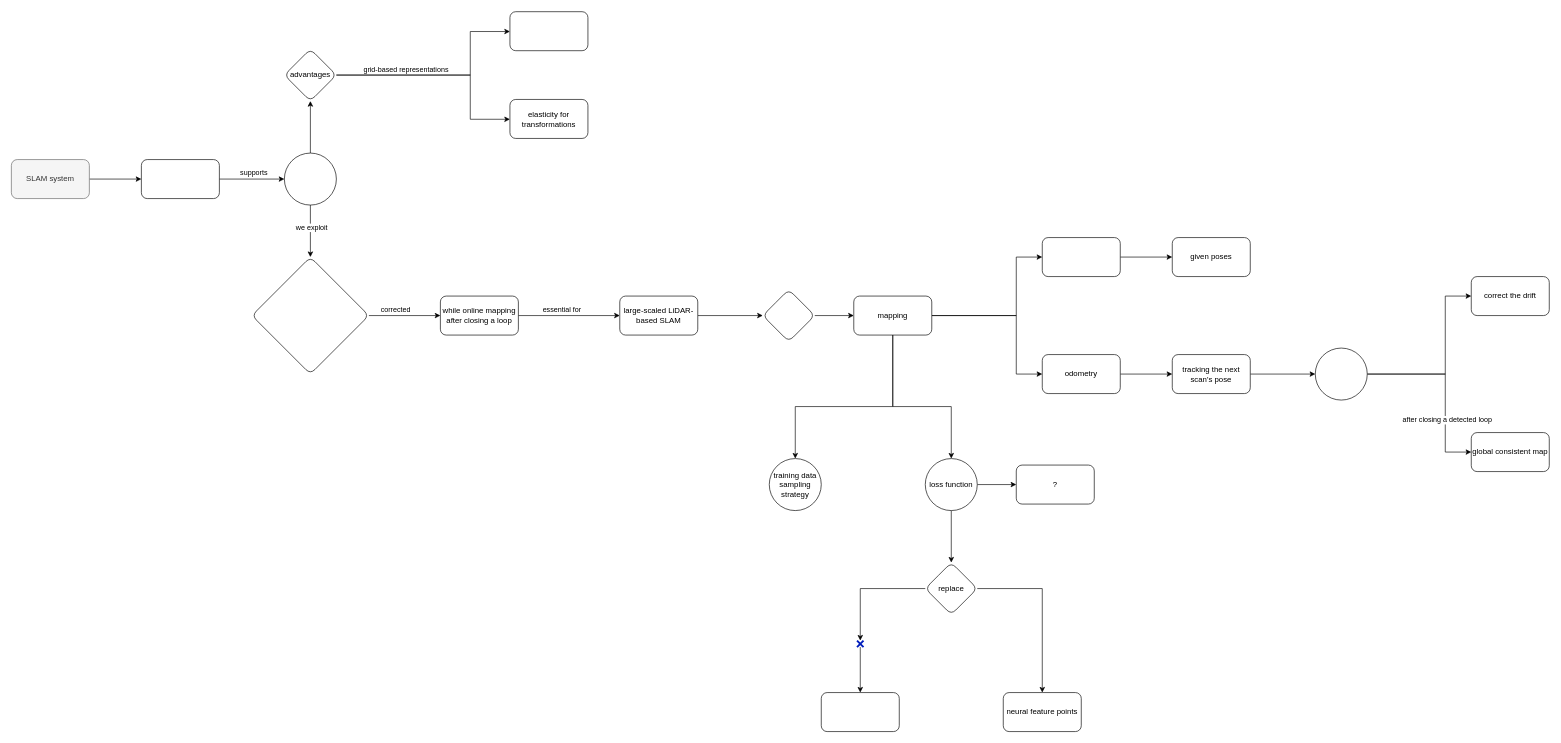
The diagram is 1561 pixels wide and 743 high, and some of its shapes have lost their labels. Here are the shapes that lost their labels. From the top down, the centre of each, then its label:
At (x=548, y=31): "flxibility of spatial distribution".
At (x=180, y=179): "implicit neural map representation".
At (x=310, y=178): "global consistent mapping".
At (x=1081, y=257): "local implicit signed distance".
At (x=310, y=315): "second and more important advantages".
At (x=788, y=315): "alternates".
At (x=1341, y=373): "current local map".
At (x=860, y=712): "octree-based multiresolution feature grid".
